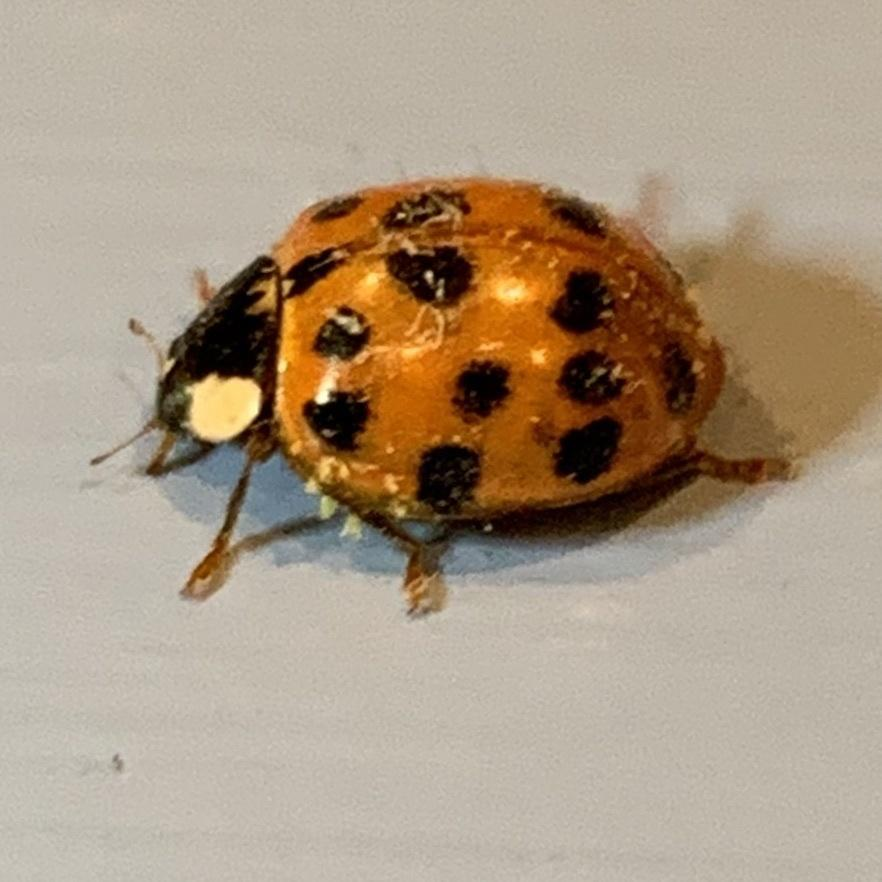ladybug: (91, 171, 811, 621)
